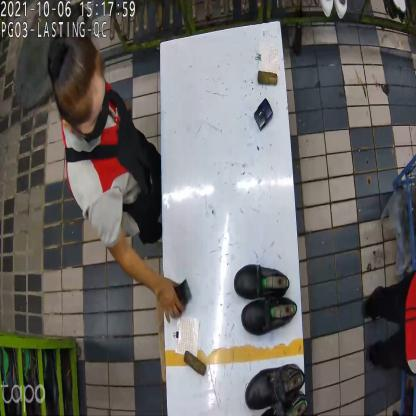shoes: (233, 260, 296, 334), (243, 364, 307, 416)
stamp: (170, 281, 192, 314), (254, 97, 274, 131)
